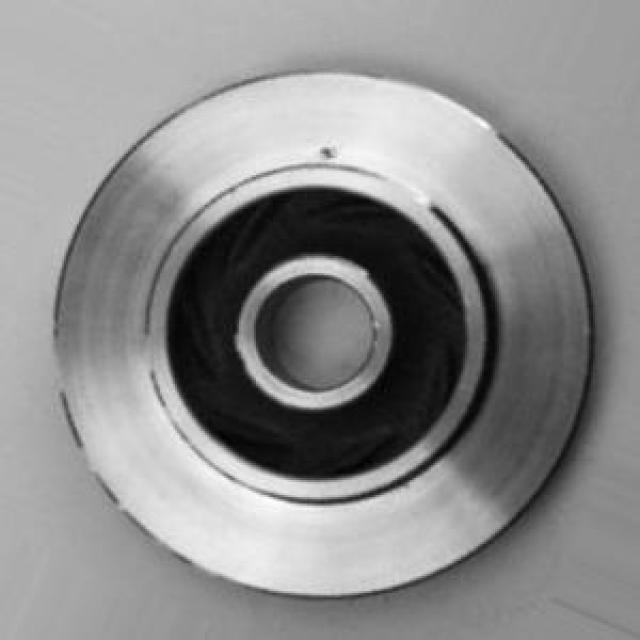Defect: (296, 137, 338, 166)
